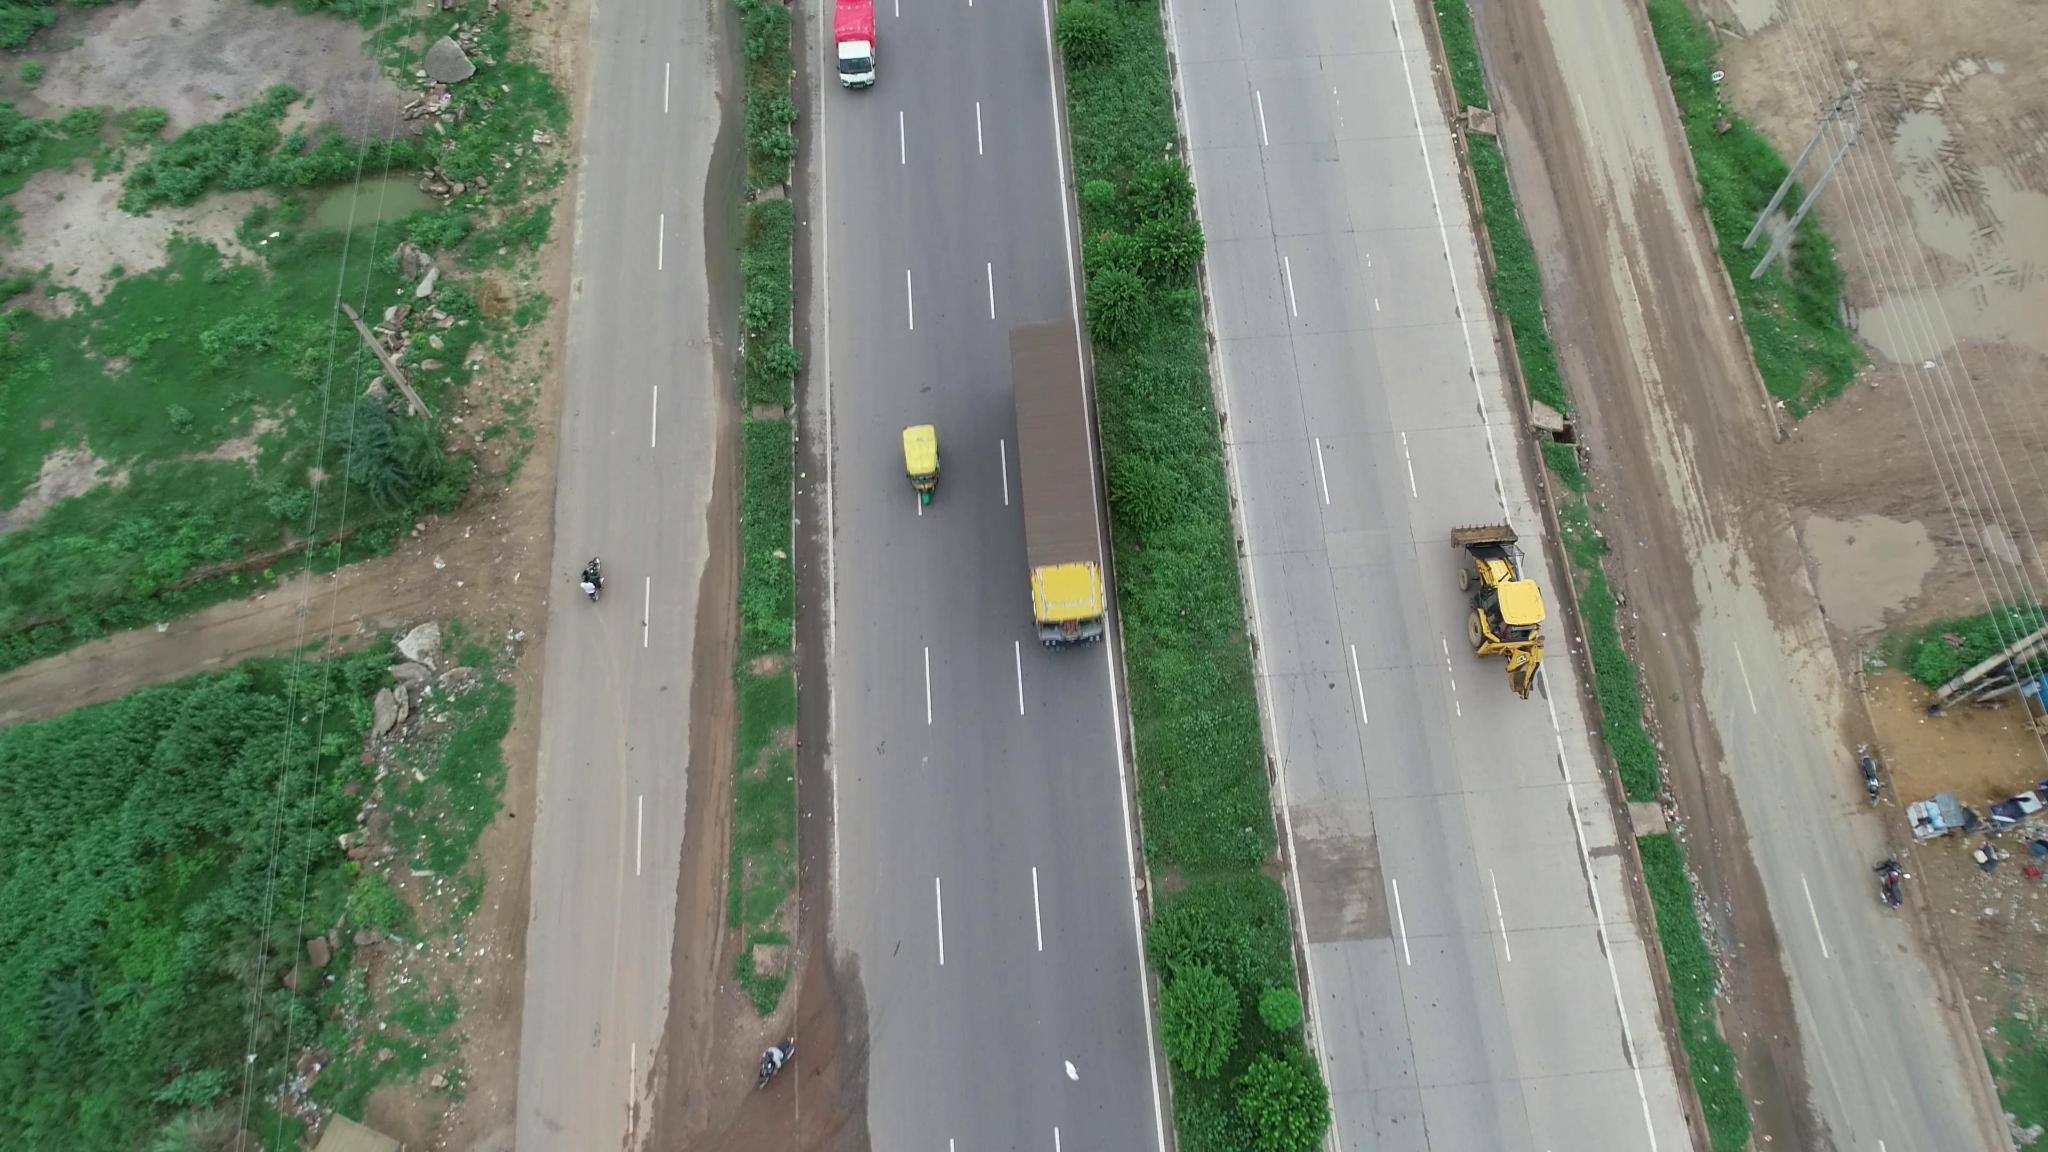Muddy_road: (1546, 238, 1689, 497), (1492, 11, 1618, 222), (1619, 542, 1729, 751), (634, 873, 717, 1146)
